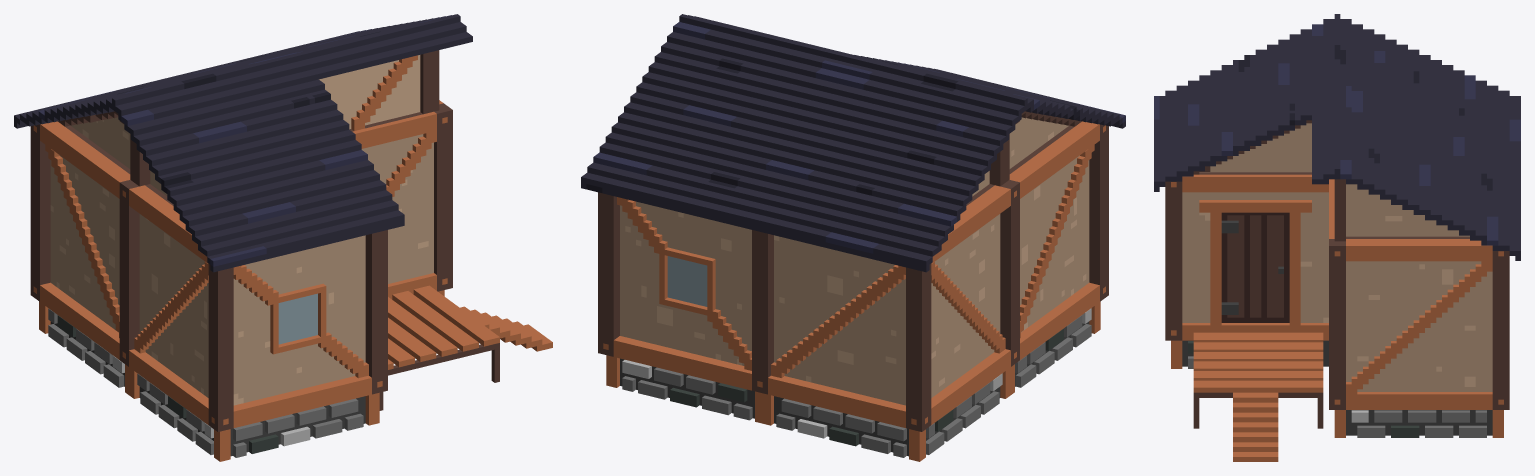
The model's file is Simple-Houses-0-Hous-4.obj.
3 views of the same model, side by side, from view 1: azimuth 30°, elevation 25°; view 2: azimuth 150°, elevation 25°; view 3: azimuth 270°, elevation 25° (orthographic). The views are drawn at different scales.
Visible parts, largest first — view 1: Hous-4; view 2: Hous-4; view 3: Hous-4.
Boxes of the visible parts, left/top/right/bottom form: Hous-4: left=14, top=14, right=552, bottom=461; Hous-4: left=581, top=14, right=1125, bottom=461; Hous-4: left=1154, top=14, right=1520, bottom=461.
Size of the model in its own units: 7.2 by 5.4 by 6.5.
Materials: 1 (1 with a texture image).
